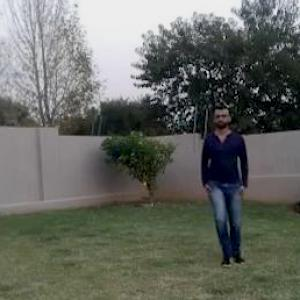follow: (204, 108, 246, 254)
